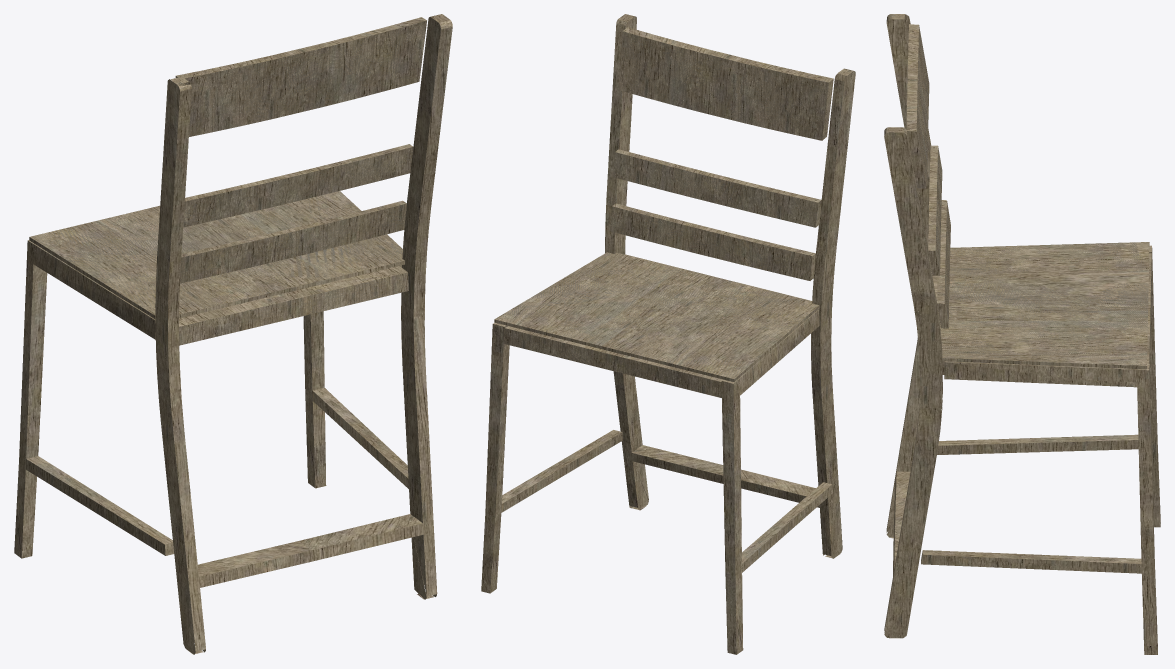
Rendered from Chair.fbx.
3 views of the same model, side by side, from view 1: azimuth 30°, elevation 25°; view 2: azimuth 150°, elevation 25°; view 3: azimuth 270°, elevation 25° (orthographic). The views are drawn at different scales.
Parts seen in each view (by area): view 1: Model; view 2: Model; view 3: Model.
Boxes of the visible parts, bbox=[...] form: Model: bbox=[14, 14, 452, 654]; Model: bbox=[481, 14, 855, 654]; Model: bbox=[884, 14, 1160, 654].
Size of the model in its own units: 20.42 by 37.03 by 18.06.
